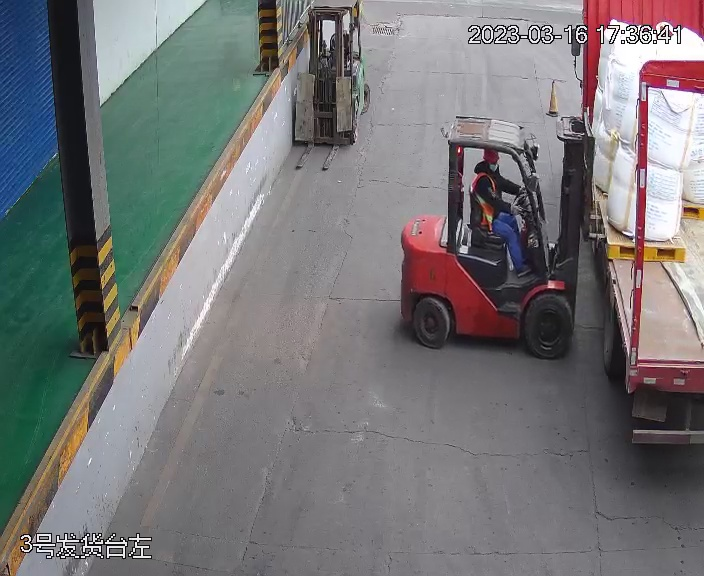head: (470, 144, 530, 277), (472, 146, 511, 192)
helmet: (480, 146, 502, 164)
people: (471, 146, 532, 281)
truck: (578, 1, 704, 451)
